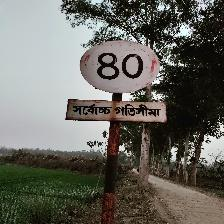Speed-limit: (66, 39, 166, 124)
